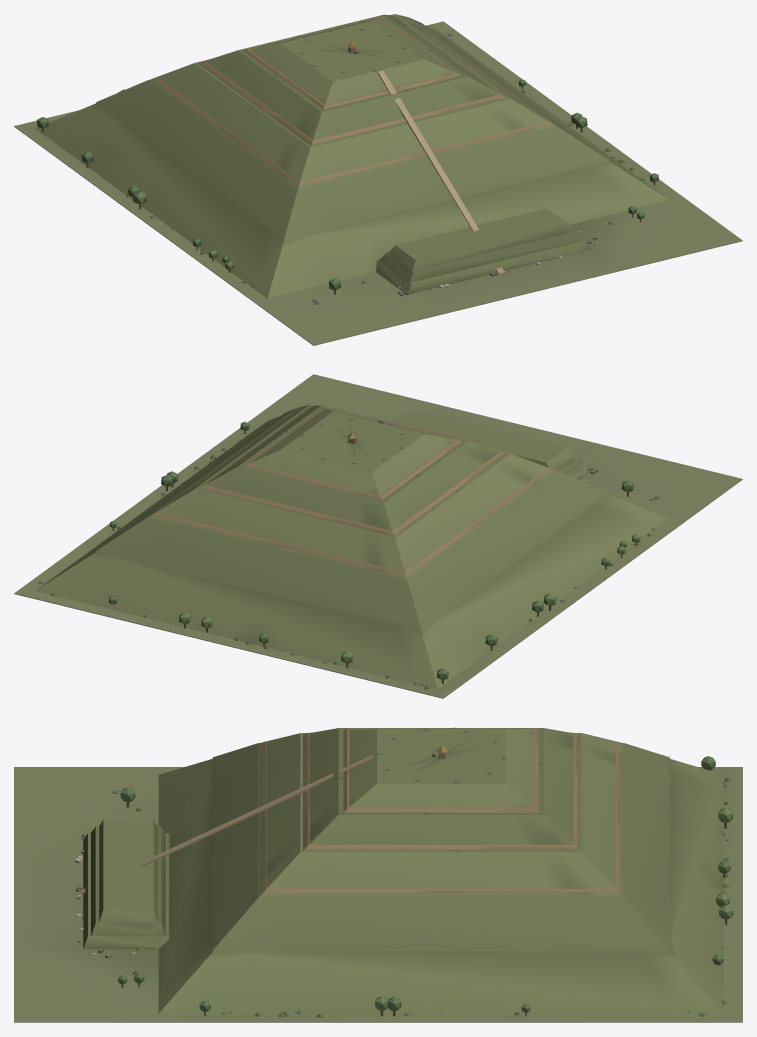
Rendered from pyramid-of-the-sun-1500.glb.
The picture shows the model from 3 angles, top to bottom: view 1: azimuth 30°, elevation 25°; view 2: azimuth 150°, elevation 25°; view 3: azimuth 270°, elevation 25°; orthographic projection. The views are drawn at different scales.
Visible parts, largest first — view 1: p1_pyramid, p0_ground, p2_growth; view 2: p1_pyramid, p0_ground, p2_growth; view 3: p1_pyramid, p0_ground, p2_growth.
Part boxes in pixels (bbox=[...]): p1_pyramid: bbox=[35, 14, 669, 298]; p0_ground: bbox=[14, 21, 742, 345]; p2_growth: bbox=[37, 28, 658, 304]; p1_pyramid: bbox=[36, 404, 669, 689]; p0_ground: bbox=[14, 374, 742, 698]; p2_growth: bbox=[37, 418, 660, 689]; p1_pyramid: bbox=[78, 728, 723, 1013]; p0_ground: bbox=[14, 767, 742, 1022]; p2_growth: bbox=[74, 727, 733, 1017].
Size of the model in its own units: 240 by 65.55 by 290.
